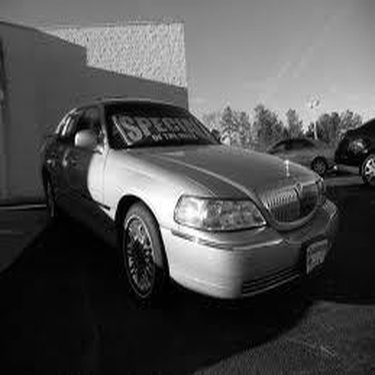car: (44, 88, 345, 311), (253, 123, 330, 180), (328, 101, 373, 177)
